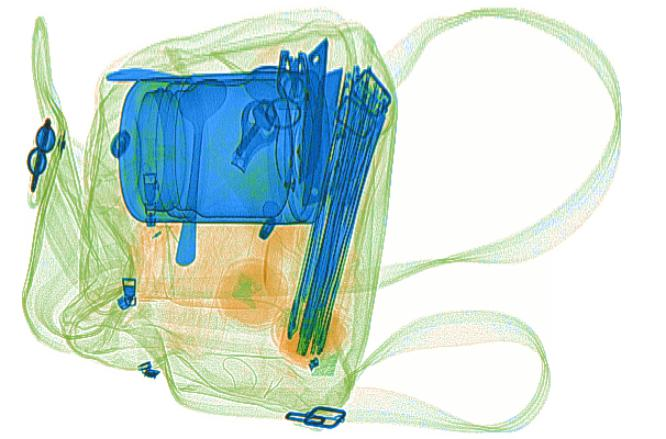knife: (301, 65, 343, 208), (296, 35, 329, 184)
scissors: (273, 45, 313, 107)
